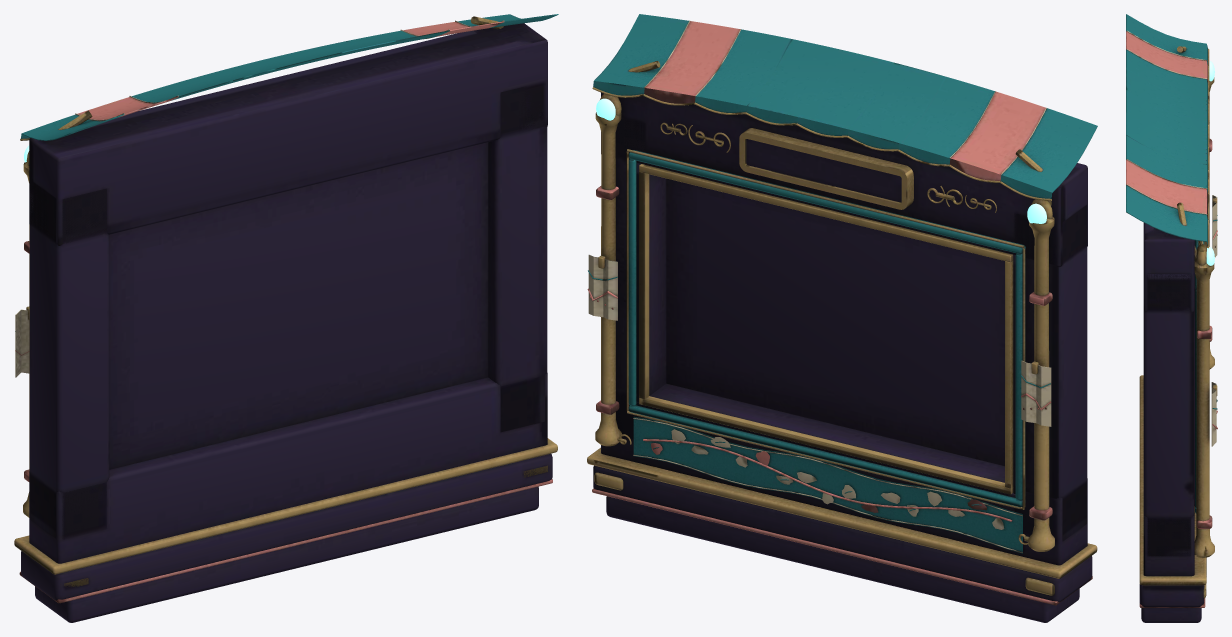
3 views of the same model, side by side, from view 1: azimuth 30°, elevation 25°; view 2: azimuth 150°, elevation 25°; view 3: azimuth 270°, elevation 25° (orthographic). The views are drawn at different scales.
Parts seen in each view (by area): view 1: Violet_travel_case, Brushed_aged_brass, Woven_teal_cloth, Coral_woven_ribbon, Warm_paper_and_chalk; view 2: Violet_travel_case, Woven_teal_cloth, Brushed_aged_brass, Coral_woven_ribbon, Warm_paper_and_chalk, Sea_glass_glow; view 3: Violet_travel_case, Woven_teal_cloth, Brushed_aged_brass, Coral_woven_ribbon, Warm_paper_and_chalk, Sea_glass_glow.
Boxes of the visible parts, x1,y1,x2,y2 form: Violet_travel_case: (21,23,552,622); Brushed_aged_brass: (14,16,557,586); Woven_teal_cloth: (15,14,558,331); Coral_woven_ribbon: (15,21,552,603); Warm_paper_and_chalk: (15,20,504,377); Violet_travel_case: (593,92,1092,622); Woven_teal_cloth: (588,14,1097,553); Brushed_aged_brass: (587,61,1097,595); Coral_woven_ribbon: (587,21,1092,605); Warm_paper_and_chalk: (588,20,1051,552); Sea_glass_glow: (596,98,1046,223); Violet_travel_case: (1139,222,1204,622); Woven_teal_cloth: (1126,14,1217,513); Brushed_aged_brass: (1139,46,1217,598); Coral_woven_ribbon: (1126,31,1217,607); Warm_paper_and_chalk: (1126,30,1217,446); Sea_glass_glow: (1206,61,1214,265).
Bounding box in the file's own units: 9.02 × 8.8 × 1.71.
6 materials, 5 textured.
